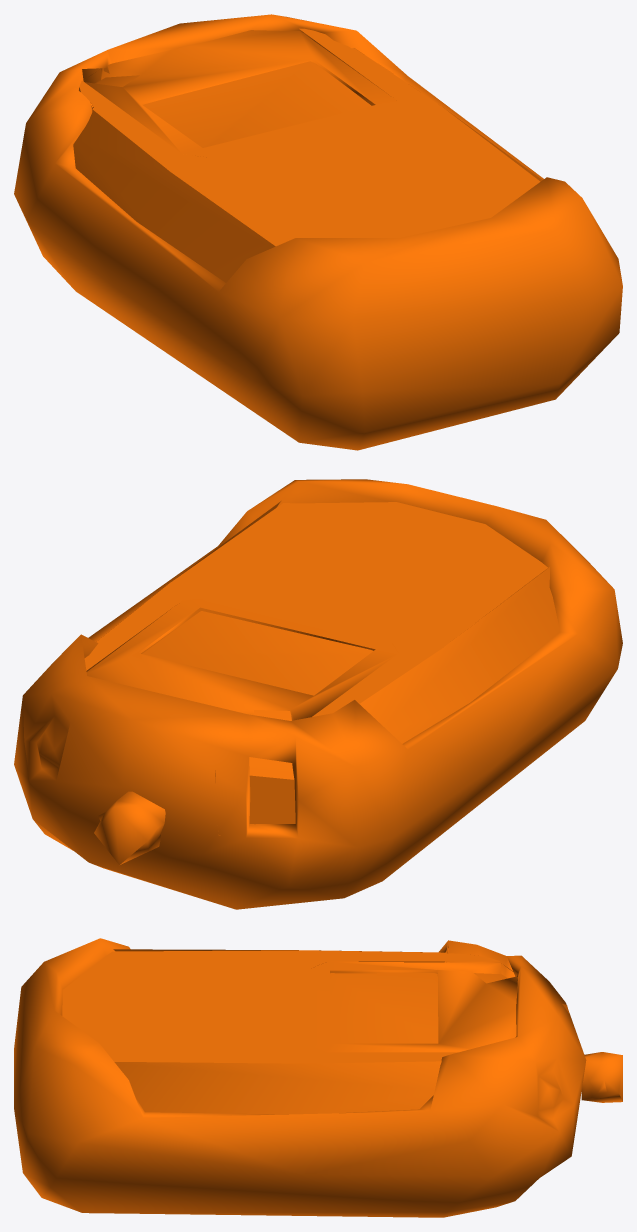
File: Icon_RADeye.fbx
The picture shows the model from 3 angles, top to bottom: view 1: azimuth 30°, elevation 25°; view 2: azimuth 150°, elevation 25°; view 3: azimuth 270°, elevation 25°; orthographic projection. The views are drawn at different scales.
Parts seen in each view (by area): view 1: radEye; view 2: radEye; view 3: radEye.
Boxes of the visible parts, bbox=[...] form: radEye: bbox=[14, 14, 622, 450]; radEye: bbox=[14, 479, 622, 909]; radEye: bbox=[14, 938, 622, 1217].
Size of the model in its own units: 10.75 by 5.7 by 17.36.
